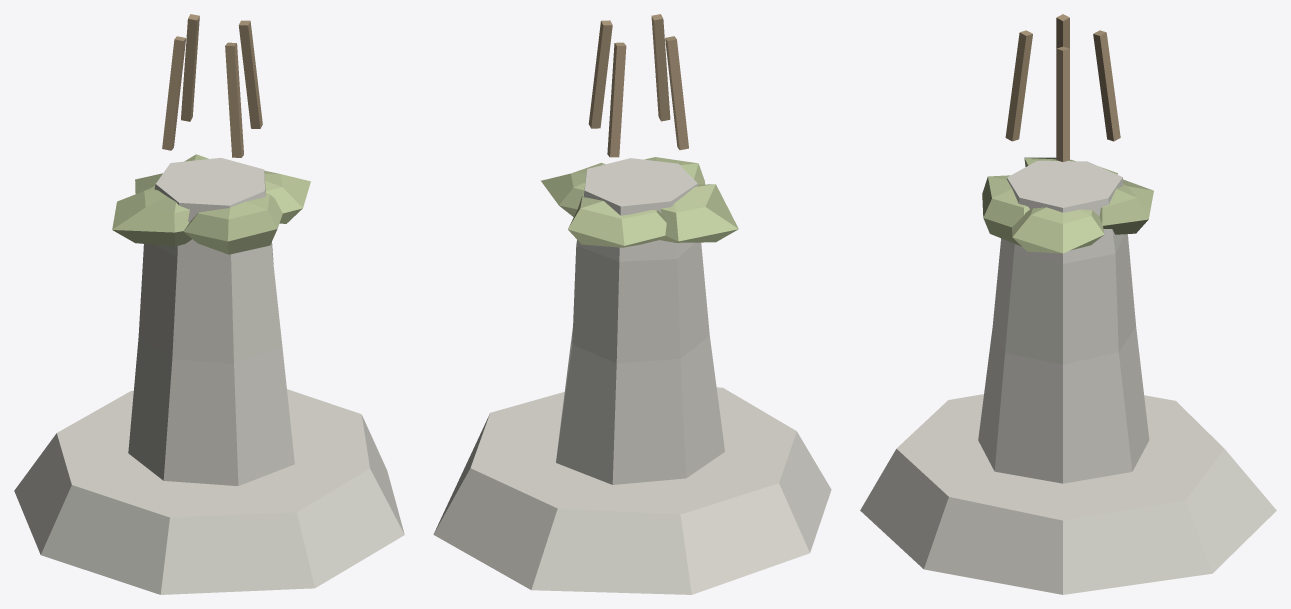
Rendered from tower-lumen.glb.
3 views of the same model, side by side, from view 1: azimuth 30°, elevation 25°; view 2: azimuth 150°, elevation 25°; view 3: azimuth 270°, elevation 25° (orthographic).
Visible parts, largest first — view 1: tower-lumen; view 2: tower-lumen; view 3: tower-lumen.
Part boxes in pixels (bbox=[...]): tower-lumen: bbox=[14, 14, 404, 594]; tower-lumen: bbox=[433, 14, 831, 594]; tower-lumen: bbox=[860, 14, 1276, 594].
Bounding box in the file's own units: 2.03 × 2.7 × 2.13.
